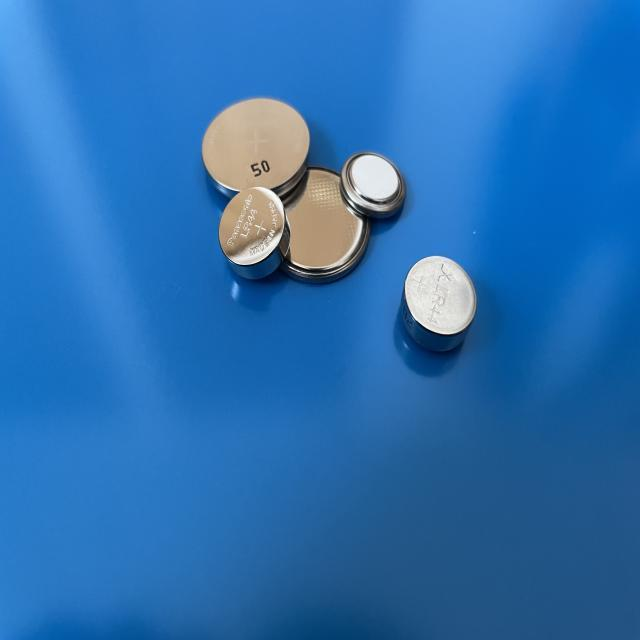COIN: (266, 165, 374, 284), (199, 95, 313, 205), (399, 255, 484, 358), (217, 189, 296, 288), (340, 148, 408, 222)
